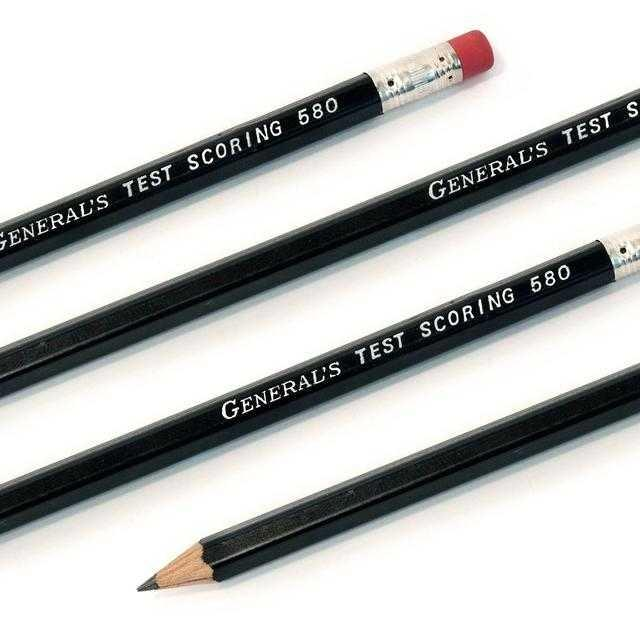pencil: (2, 185, 639, 577), (0, 51, 639, 435), (0, 8, 519, 326), (118, 324, 639, 636)
